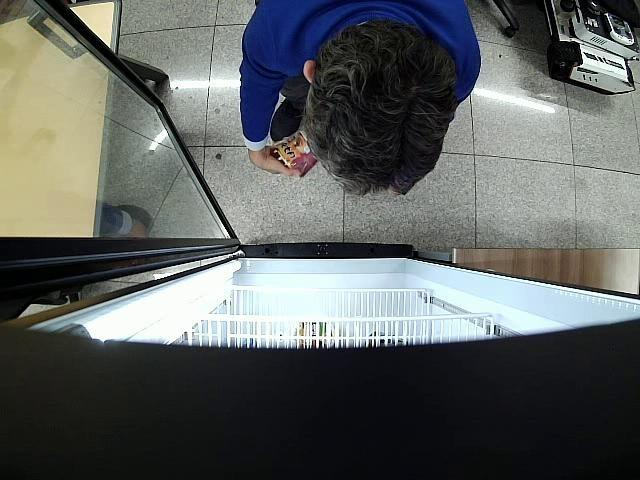05_nuguri_L: (272, 131, 318, 178)
